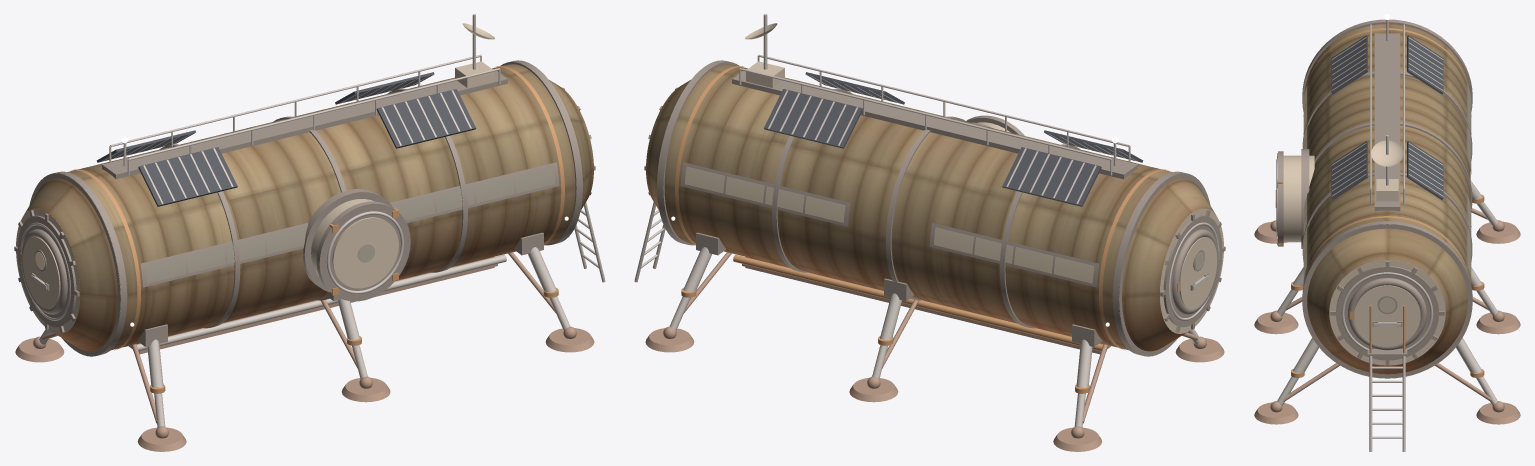
File: W02_sideport.glb
3 views of the same model, side by side, from view 1: azimuth 30°, elevation 25°; view 2: azimuth 150°, elevation 25°; view 3: azimuth 270°, elevation 25° (orthographic). The views are drawn at different scales.
Visible parts, largest first — view 1: hull, cone_rib, hatch_light_ring, end_plate, leg_brace, hatch_porthole; view 2: hull, cone_rib, hatch_light_ring, end_plate, leg_brace, hatch_porthole; view 3: hull, cone_rib, end_plate, hatch_light_ring, leg_brace, hatch_porthole, antenna_dish.
Boxes of the visible parts, left/top/right/bottom form: hull: left=24, top=64, right=593, bottom=351; cone_rib: left=14, top=60, right=595, bottom=356; hatch_light_ring: left=20, top=14, right=605, bottom=427; end_plate: left=16, top=61, right=592, bottom=393; leg_brace: left=15, top=252, right=594, bottom=451; hatch_porthole: left=35, top=166, right=554, bottom=283; hull: left=646, top=64, right=1215, bottom=351; cone_rib: left=644, top=60, right=1225, bottom=356; hatch_light_ring: left=634, top=14, right=1219, bottom=427; end_plate: left=675, top=61, right=1223, bottom=393; leg_brace: left=645, top=252, right=1224, bottom=451; hatch_porthole: left=685, top=166, right=1204, bottom=283; hull: left=1304, top=24, right=1470, bottom=374; cone_rib: left=1278, top=19, right=1472, bottom=378; end_plate: left=1277, top=28, right=1484, bottom=377; hatch_light_ring: left=1276, top=20, right=1497, bottom=451; leg_brace: left=1254, top=208, right=1520, bottom=424; hatch_porthole: left=1275, top=86, right=1471, bottom=312; antenna_dish: left=1371, top=140, right=1403, bottom=166.
Bounding box in the file's own units: 10.52 × 5.25 × 4.8.
9 materials, 1 textured.
